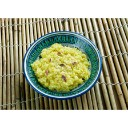venpongal: (35, 44, 89, 87)
